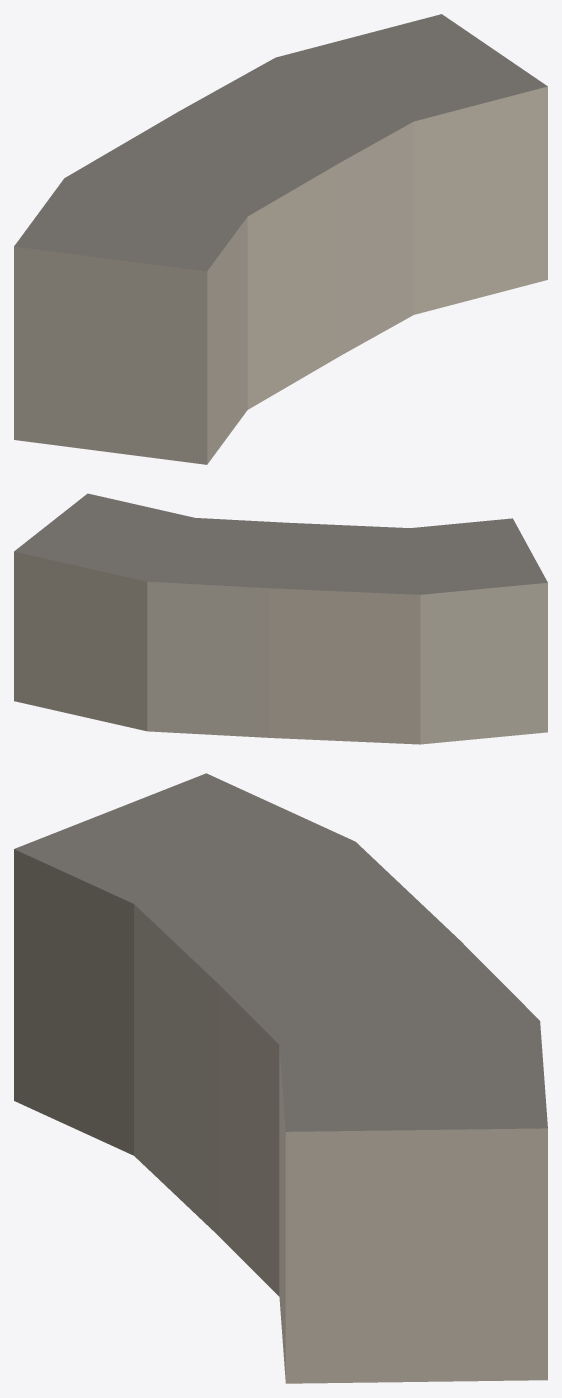
3 renders of one model, top to bottom at view 1: azimuth 30°, elevation 25°; view 2: azimuth 150°, elevation 25°; view 3: azimuth 270°, elevation 25°, orthographic. The views are drawn at different scales.
Visible parts, largest first — view 1: HP-w859488791; view 2: HP-w859488791; view 3: HP-w859488791.
Part boxes in pixels (left/top/right/bottom): HP-w859488791: left=14, top=14, right=547, bottom=464; HP-w859488791: left=14, top=493, right=547, bottom=744; HP-w859488791: left=14, top=773, right=547, bottom=1383.
Size of the model in its own units: 54.97 by 18 by 34.59.
